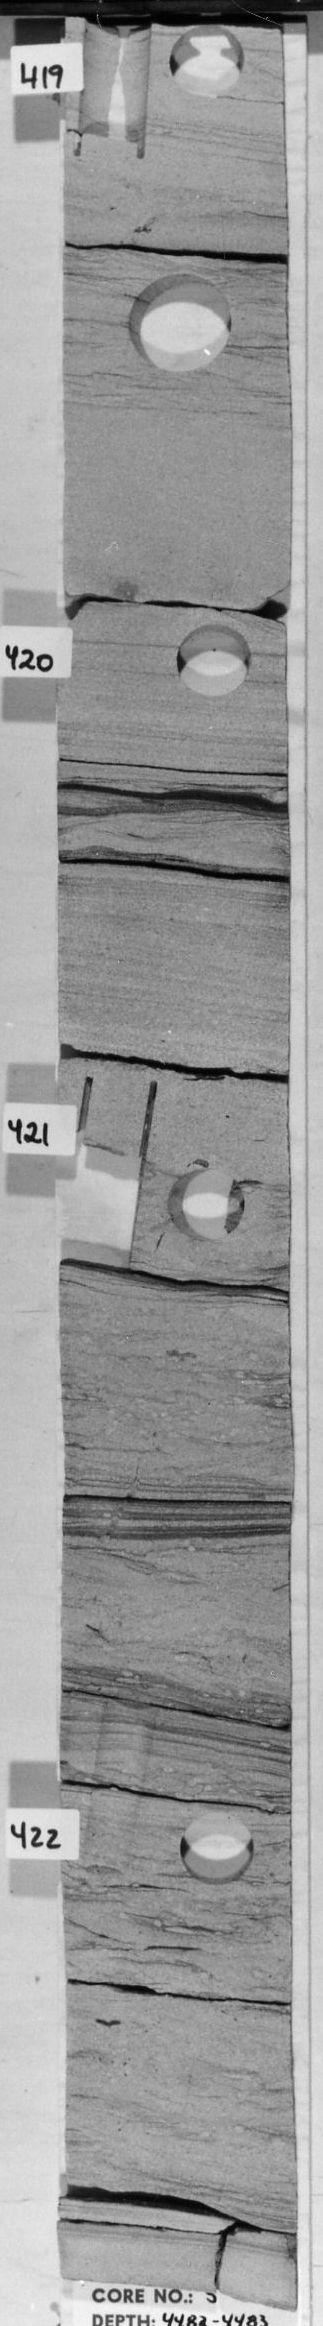hplug: (170, 620, 262, 702), (161, 1164, 252, 1246), (176, 1808, 259, 1885), (164, 25, 249, 99)
scal: (120, 268, 239, 378)
vplug: (64, 1075, 159, 1288), (79, 1697, 161, 1874), (74, 22, 163, 169)
